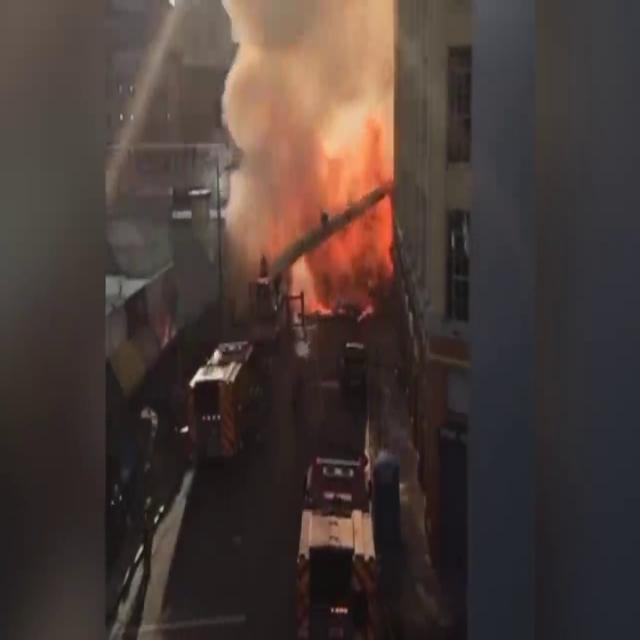Smoke: (198, 0, 397, 313)
